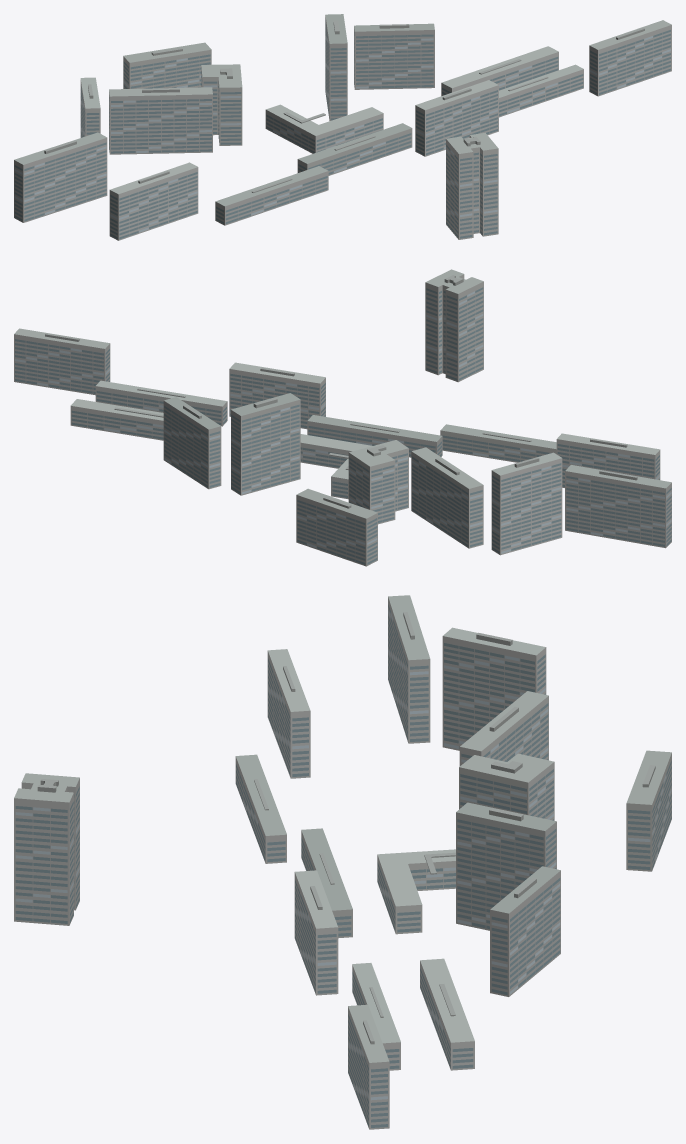
Rendered from apt-a15805503.glb.
The picture shows the model from 3 angles, top to bottom: view 1: azimuth 30°, elevation 25°; view 2: azimuth 150°, elevation 25°; view 3: azimuth 270°, elevation 25°; orthographic projection. The views are drawn at different scales.
Parts seen in each view (by area): view 1: apt-a15805503; view 2: apt-a15805503; view 3: apt-a15805503.
Boxes of the visible parts, x1,y1,x2,y2 form: apt-a15805503: (14,14,671,240); apt-a15805503: (14,269,671,566); apt-a15805503: (14,595,671,1129).
Size of the model in its own units: 530 by 70 by 327.
